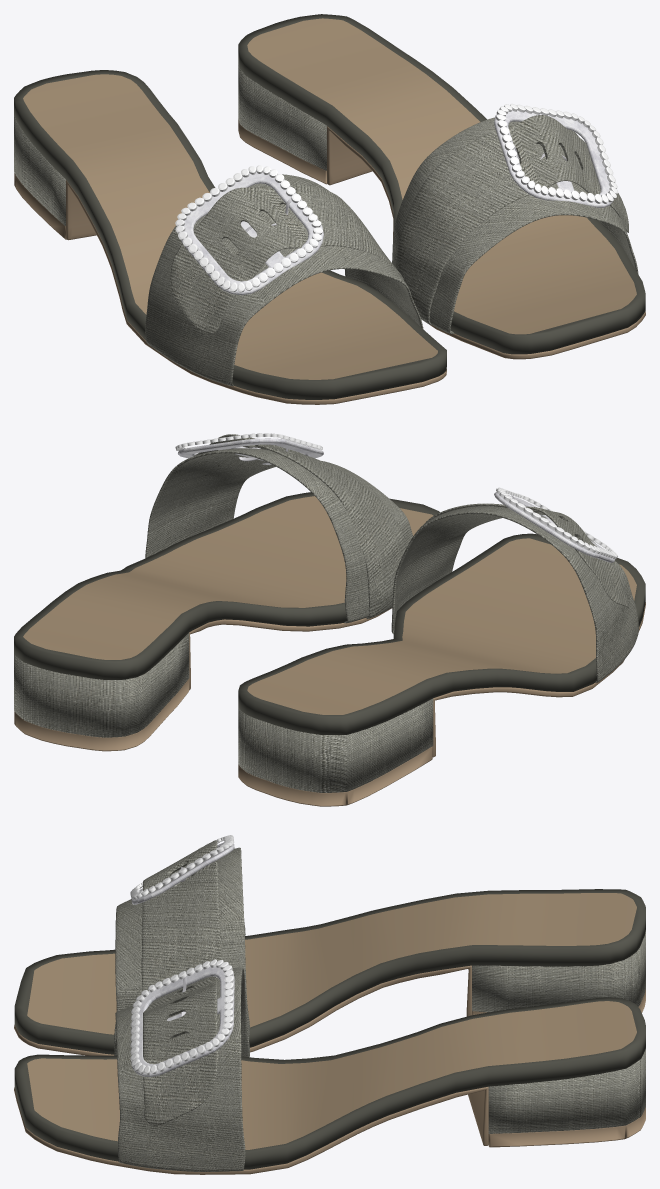
Rendered from src_alpombra_heel_mule.glb.
The picture shows the model from 3 angles, top to bottom: view 1: azimuth 30°, elevation 25°; view 2: azimuth 150°, elevation 25°; view 3: azimuth 270°, elevation 25°; orthographic projection.
Parts seen in each view (by area): view 1: 平面.006, 平面.001; view 2: 平面.001, 平面.006; view 3: 平面.001, 平面.006.
Boxes of the visible parts, <box> form: 平面.006: <box>14,70,446,404</box>; 平面.001: <box>238,14,645,359</box>; 平面.001: <box>14,433,439,751</box>; 平面.006: <box>238,487,645,806</box>; 平面.001: <box>14,959,645,1174</box>; 平面.006: <box>14,835,645,1055</box>.
Bounding box in the file's own units: 5.68 × 2 × 6.88.
5 materials, 2 textured.
